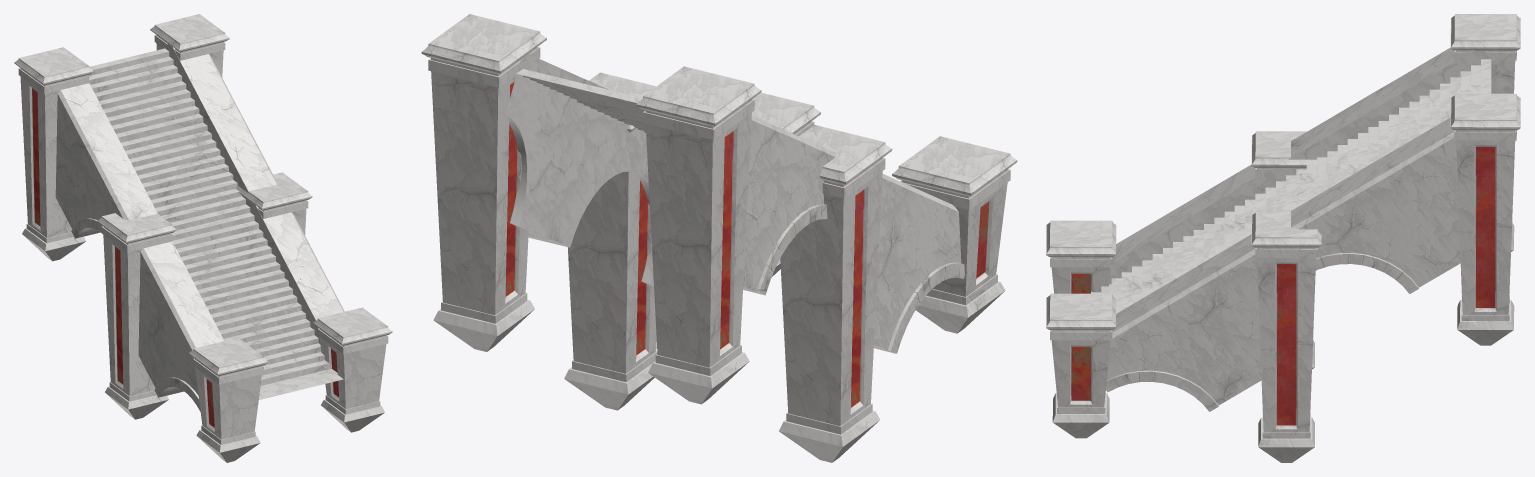
The model's file is BgMD_Ruins_StraightStairs_END.fbx.
The picture shows the model from 3 angles, left to right: view 1: azimuth 30°, elevation 25°; view 2: azimuth 150°, elevation 25°; view 3: azimuth 270°, elevation 25°; orthographic projection. The views are drawn at different scales.
Visible parts, largest first — view 1: SM_Ruins_stairs, SM_Ruins_deco_L1, SM_Ruins_deco_L3, SM_Ruins_deco_S1, SM_Ruins_deco_S2, SM_Ruins_deco_L2, SM_Ruins_deco_L4; view 2: SM_Ruins_stairs, SM_Ruins_deco_L1, SM_Ruins_deco_L2, SM_Ruins_deco_L3, SM_Ruins_deco_L4, SM_Ruins_deco_S1, SM_Ruins_deco_S2; view 3: SM_Ruins_stairs, SM_Ruins_deco_L2, SM_Ruins_deco_L4, SM_Ruins_deco_S2, SM_Ruins_deco_S1, SM_Ruins_deco_L1, SM_Ruins_deco_L3.
Part boxes in pixels (x1,y1,x2,y2): SM_Ruins_stairs: [55, 43, 344, 411]; SM_Ruins_deco_L1: [14, 47, 93, 261]; SM_Ruins_deco_L3: [97, 213, 176, 419]; SM_Ruins_deco_S1: [189, 338, 268, 462]; SM_Ruins_deco_S2: [313, 307, 392, 432]; SM_Ruins_deco_L2: [150, 14, 229, 77]; SM_Ruins_deco_L4: [235, 172, 312, 234]; SM_Ruins_stairs: [502, 54, 964, 353]; SM_Ruins_deco_L1: [636, 66, 761, 404]; SM_Ruins_deco_L2: [421, 14, 546, 351]; SM_Ruins_deco_L3: [779, 125, 892, 462]; SM_Ruins_deco_L4: [564, 72, 657, 410]; SM_Ruins_deco_S1: [892, 136, 1017, 333]; SM_Ruins_deco_S2: [752, 92, 821, 276]; SM_Ruins_stairs: [1091, 47, 1508, 411]; SM_Ruins_deco_L2: [1450, 93, 1520, 345]; SM_Ruins_deco_L4: [1251, 211, 1321, 462]; SM_Ruins_deco_S2: [1046, 293, 1116, 438]; SM_Ruins_deco_S1: [1046, 220, 1116, 293]; SM_Ruins_deco_L1: [1450, 14, 1520, 251]; SM_Ruins_deco_L3: [1251, 131, 1316, 369].
Size of the model in its own units: 756 by 1140 by 1386.
